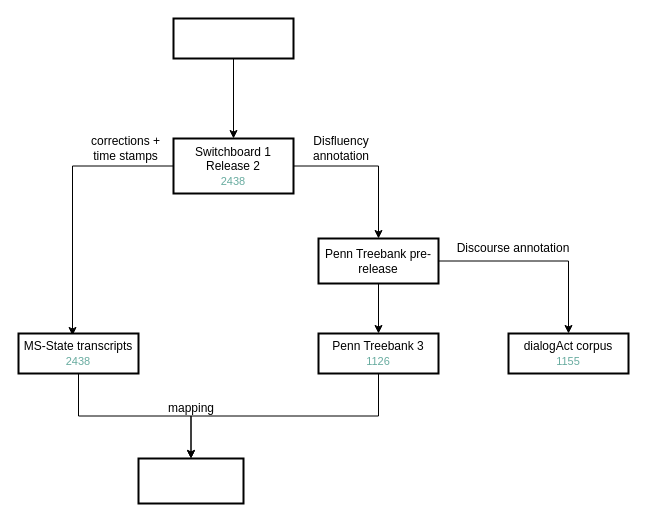
This 646x521 diagram has some shape labels left out. Here are the shapes that lost their labels. From the top down, the box of each, then its label:
(172, 17, 294, 59): Switchboard Part 1 2438
(137, 457, 244, 504): NXT 642
